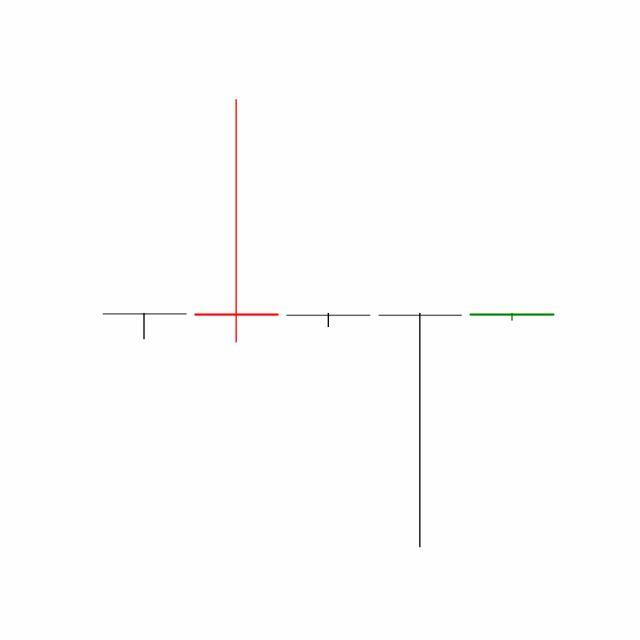Dragonfly Doji: (374, 311, 468, 551)
